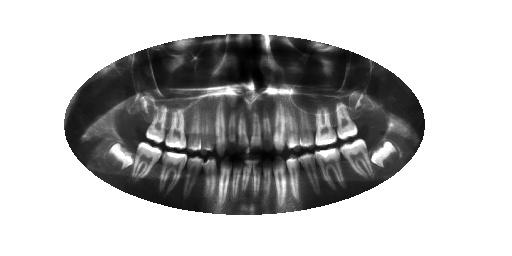i10decay: (228, 158, 244, 198)
i11decay: (216, 157, 232, 206)
i12chipped: (197, 154, 219, 200)
i13healthy: (181, 152, 205, 200)
i14healthy: (157, 149, 188, 197)
i15healthy: (129, 137, 163, 182)
i16healthy: (103, 139, 135, 172)
i1healthy: (365, 135, 401, 170)
i2healthy: (338, 137, 376, 179)
i3healthy: (309, 146, 345, 190)
i4healthy: (297, 151, 325, 197)
i5chipped: (283, 152, 301, 200)
i6decay: (268, 151, 287, 208)
i7decay: (261, 152, 274, 205)
i8decay: (248, 158, 265, 199)
i9decay: (241, 158, 254, 196)
u10decay: (226, 104, 239, 157)
u11healthy: (212, 96, 229, 158)
u12healthy: (202, 103, 216, 157)
u13healthy: (187, 103, 204, 153)
u14healthy: (162, 107, 191, 150)
u15healthy: (144, 103, 171, 144)
u16loss: (132, 96, 154, 135)
u1loss: (350, 96, 383, 128)
u2healthy: (335, 97, 360, 141)
u3healthy: (310, 100, 338, 148)
u4healthy: (296, 99, 317, 150)
u5healthy: (279, 100, 302, 150)
u6healthy: (272, 97, 287, 153)
u7decay: (261, 99, 275, 154)
u8decay: (246, 106, 264, 154)
u9decay: (235, 107, 249, 157)
